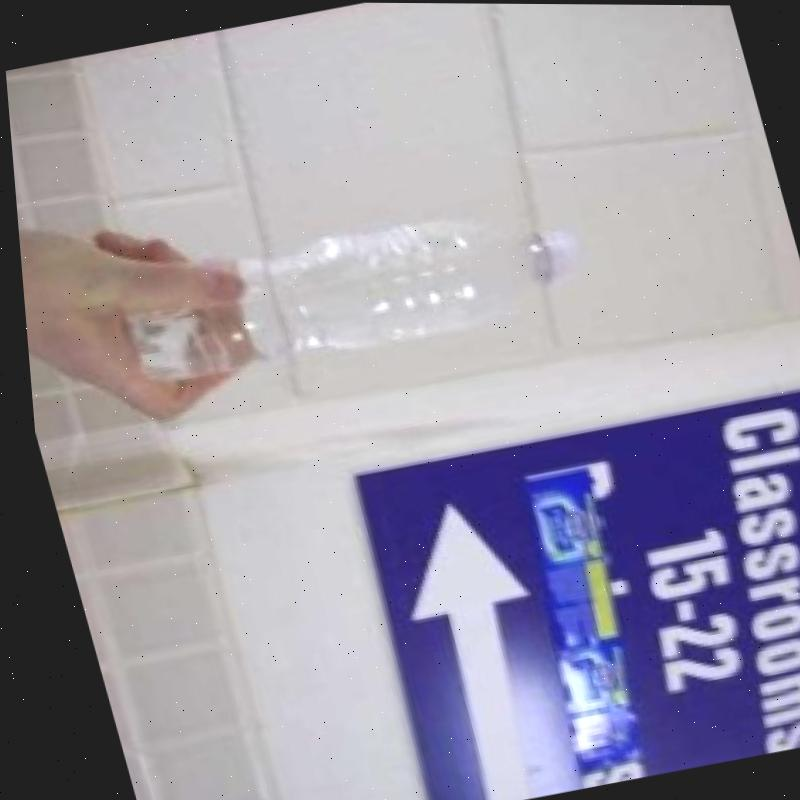botella: (101, 182, 592, 395)
